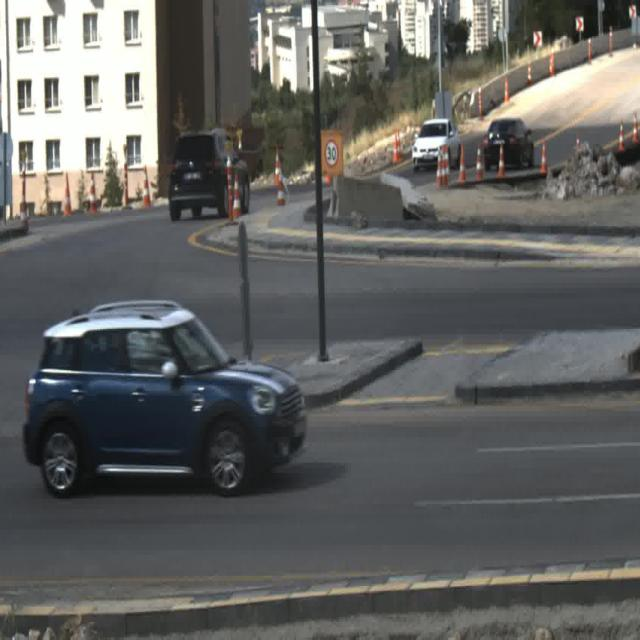Car: (26, 301, 305, 495), (170, 127, 250, 223), (484, 118, 534, 169), (413, 119, 462, 171)
